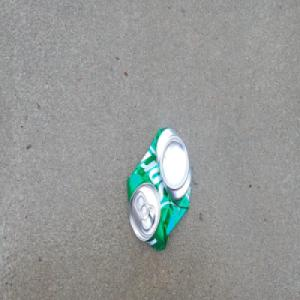SodaCan: (126, 123, 193, 253)
